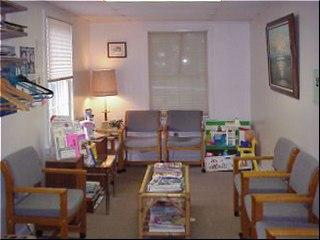Otro Obstaculo: (204, 121, 255, 151)
